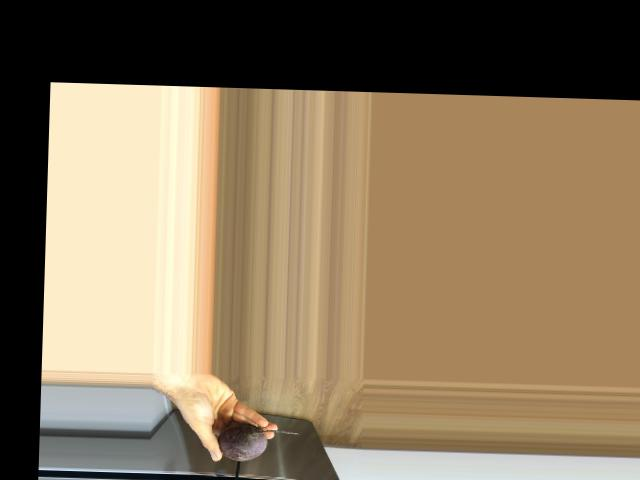beet: (218, 422, 300, 462)
